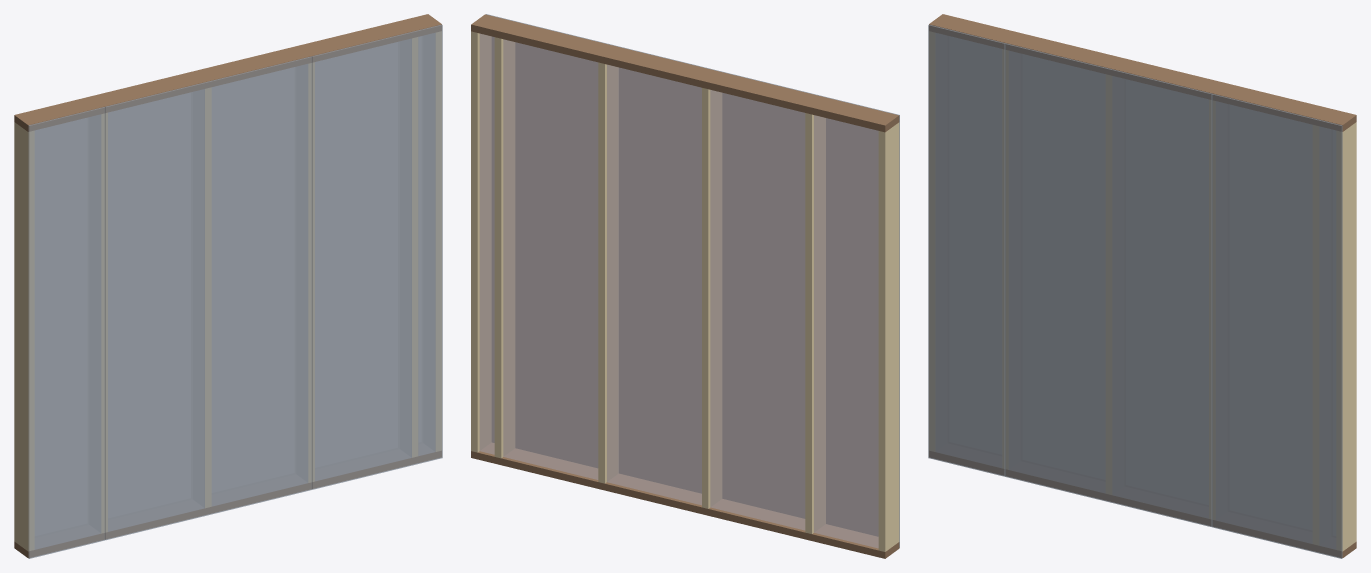
3 views of the same model, side by side, from view 1: azimuth 30°, elevation 25°; view 2: azimuth 150°, elevation 25°; view 3: azimuth 330°, elevation 25° (orthographic).
Parts seen in each view (by area): view 1: EX10 FF; view 2: EX10 FF; view 3: EX10 FF.
Boxes of the visible parts, <box> form: EX10 FF: <box>14,14,442,558</box>; EX10 FF: <box>471,14,899,558</box>; EX10 FF: <box>928,14,1356,558</box>.
Size of the model in its own units: 2.4 by 2.4 by 0.149.
